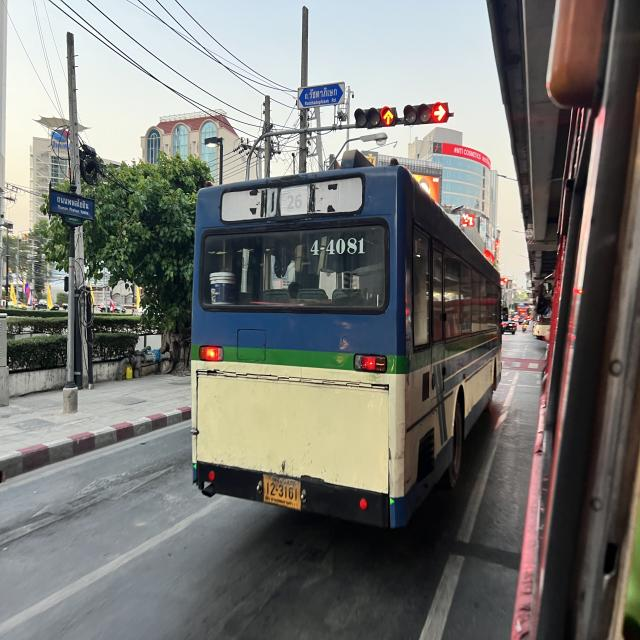BMTA-bus: (189, 164, 505, 533)
Bus-Line-Number: (280, 186, 308, 216)
